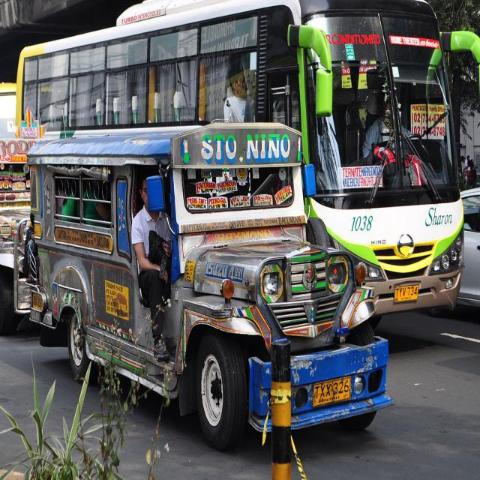bus: (19, 1, 464, 326)
jeepney: (19, 128, 391, 448)
